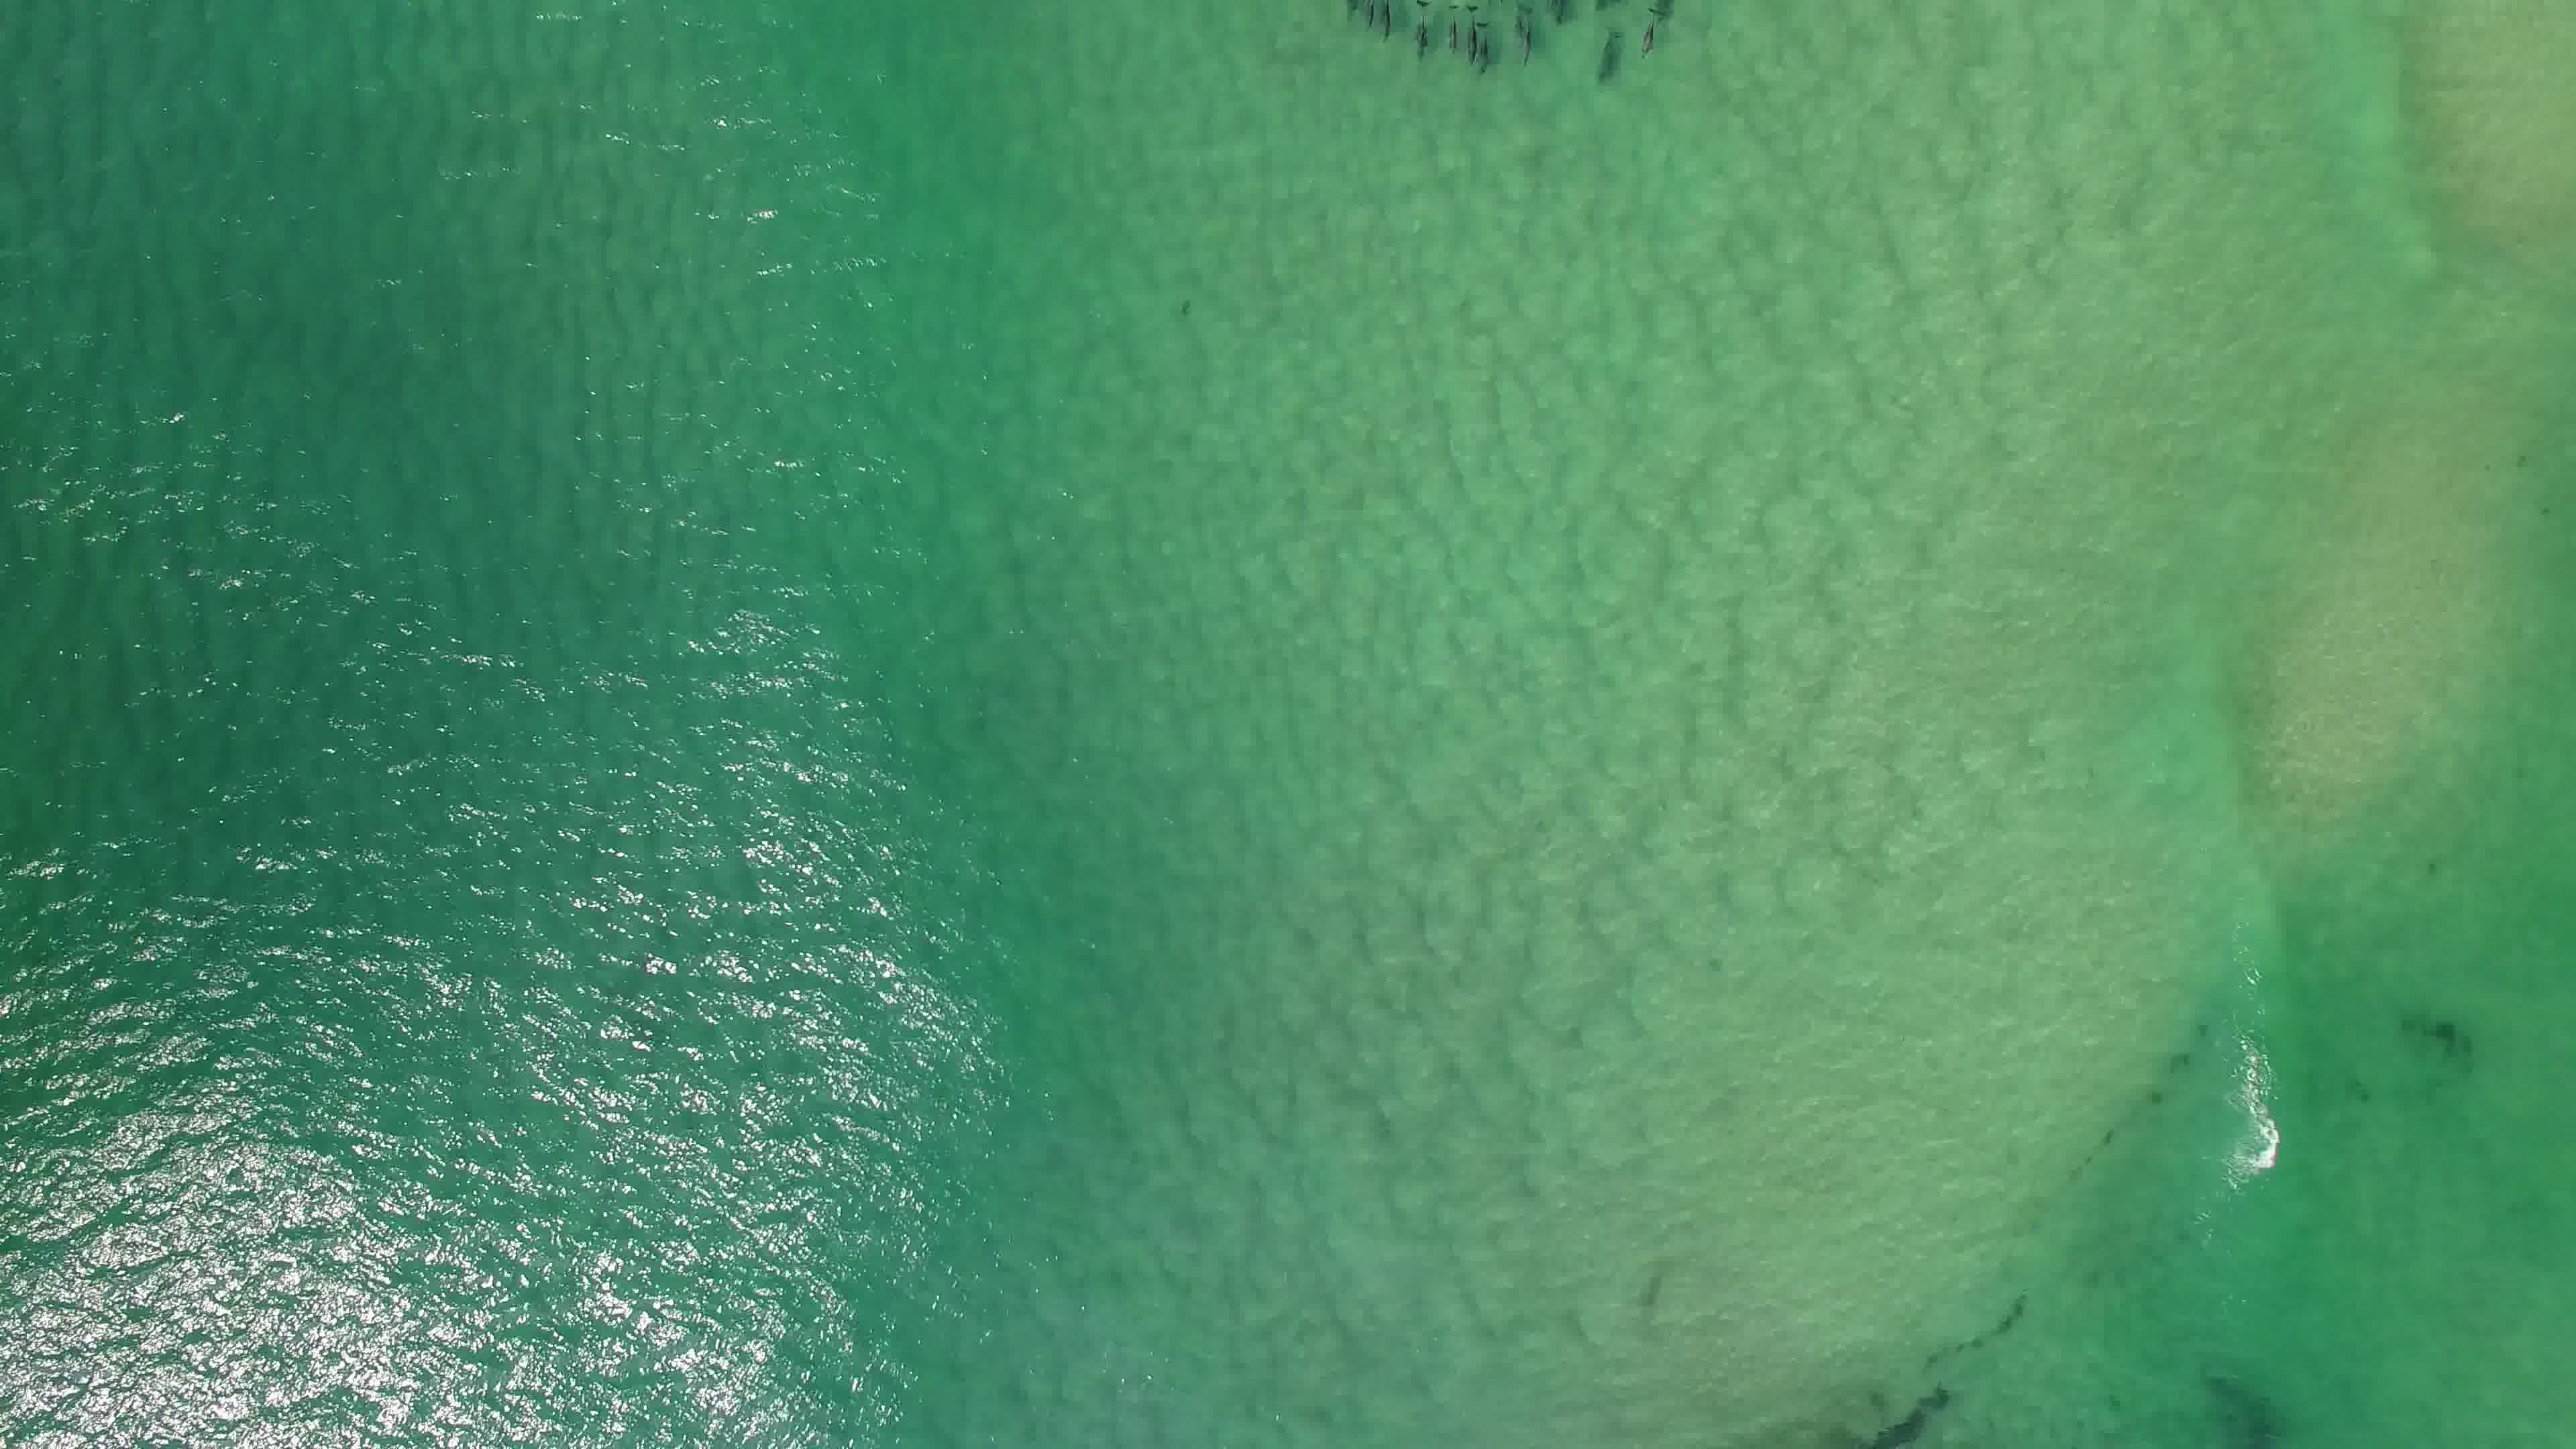dolphin: (1582, 19, 1631, 88), (1628, 4, 1670, 67), (1407, 0, 1435, 69), (1456, 2, 1486, 58), (1474, 14, 1499, 81), (1511, 9, 1543, 58), (1442, 4, 1463, 55), (1376, 2, 1394, 35), (1362, 2, 1376, 32)
